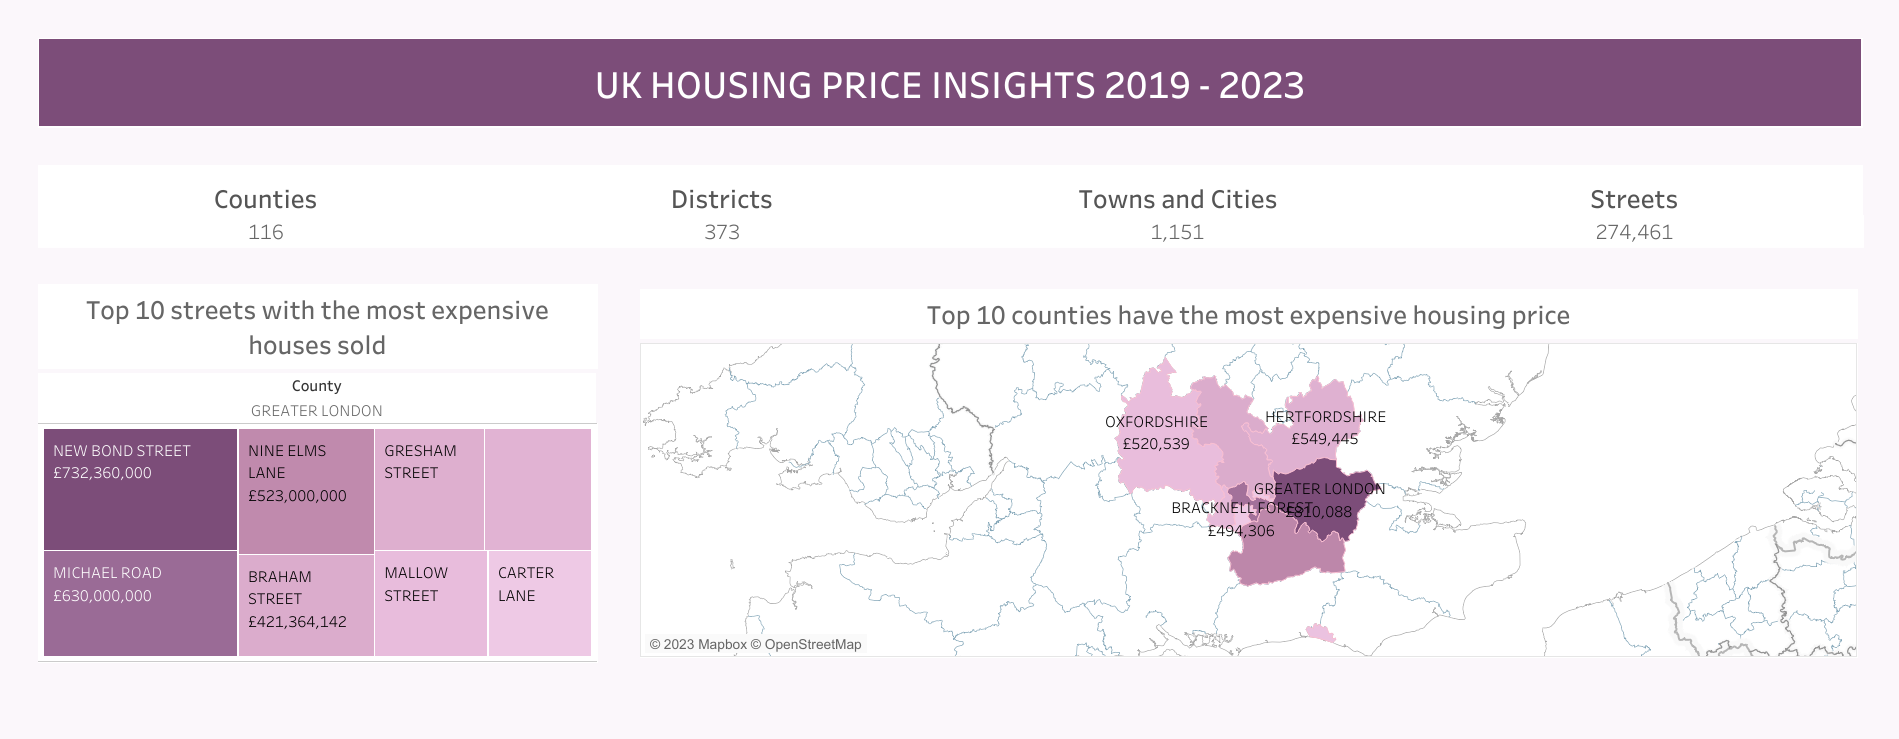

Layout of this report page (visuals, bound fields, positions):
{"tool":"tableau","page":{"name":"UK HOUSING PRICE INSIGHT","canvas":[1000,1000],"units":"permille","ordinal":0},"visuals":[{"type":"title","box":[9.1,17.6,981.9,119.9]},{"type":"worksheet","title":"Sheet 4","mark":"Automatic","box":[9.1,137.5,981.9,111.6]},{"type":"worksheet","title":"Sheet 1","mark":"Automatic","cols":["county"],"box":[9.1,249.1,315.2,683.9]},{"type":"worksheet","title":"Sheet 2","mark":"Automatic","box":[333.3,266.8,648.6,648.6]}]}

Visuals, with their boxes on the dashboard's canvas, which has no fixed pixel size, in thousandths of its width and height (x1, y1, x2, y2). These are canvas units, not pixel positions in the 1899x739 screenshot, which may show the page scaled, cropped or inside an application window:
title: [left=9, top=18, right=991, bottom=138]
"Sheet 4" worksheet: [left=9, top=138, right=991, bottom=249]
"Sheet 1" worksheet: [left=9, top=249, right=324, bottom=933]
"Sheet 2" worksheet: [left=333, top=267, right=982, bottom=915]
